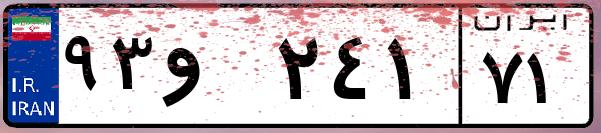1: (385, 28, 445, 110), (525, 38, 570, 115)
2: (270, 28, 330, 110)
3: (110, 28, 158, 98)
4: (330, 28, 385, 110)
7: (475, 38, 525, 113)
9: (57, 26, 110, 100)
و: (158, 20, 270, 120)
